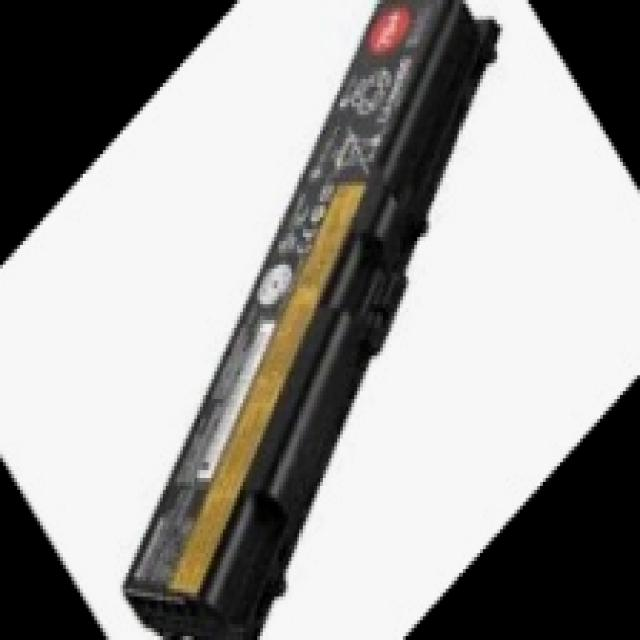elektronik: (132, 1, 502, 640)
